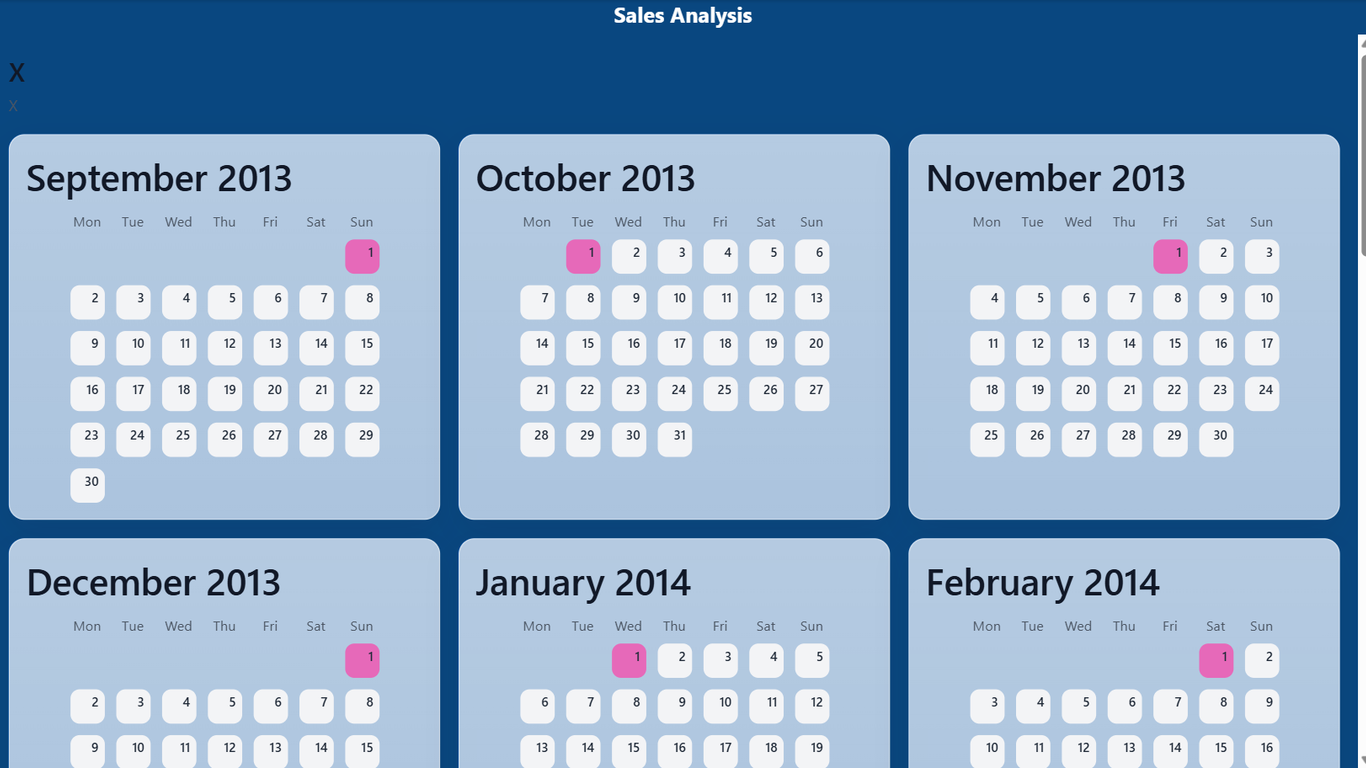

The dashboard page shown, as its layout file describes it:
{"tool":"powerbi","page":{"name":"Blue","canvas":[1280,720],"ordinal":1},"visuals":[{"type":"calendarHeatmap9C5B780604B844298D143AD6DD95EB16","title":"Sales Analysis","fields":{"date":["financials.Date"],"value":["Sum(financials.Sales)"]},"box":[0,0,1280,719.8],"z":0}]}

Visuals, with their boxes on the page's 1280x720 design canvas (x1, y1, x2, y2). These are canvas units, not pixel positions in the 1366x768 screenshot, which may show the page scaled, cropped or inside an application window:
"Sales Analysis" calendarHeatmap9C5B780604B844298D143AD6DD95EB16: bbox=(0, 0, 1280, 720)
